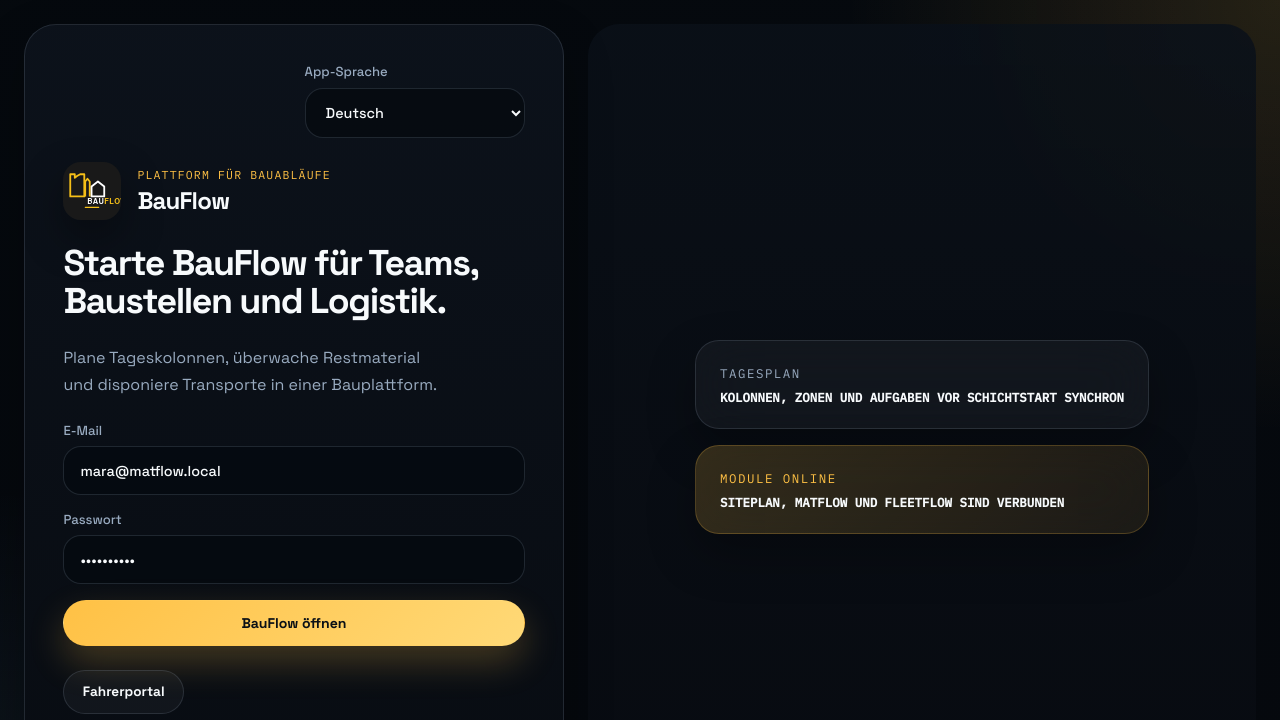
Test: App login smoke tests › shows a localized login error for invalid credentials
Step 1. Click the button "BauFlow öffnen" → {"x": 294, "y": 623}, box [63,600,525,646]
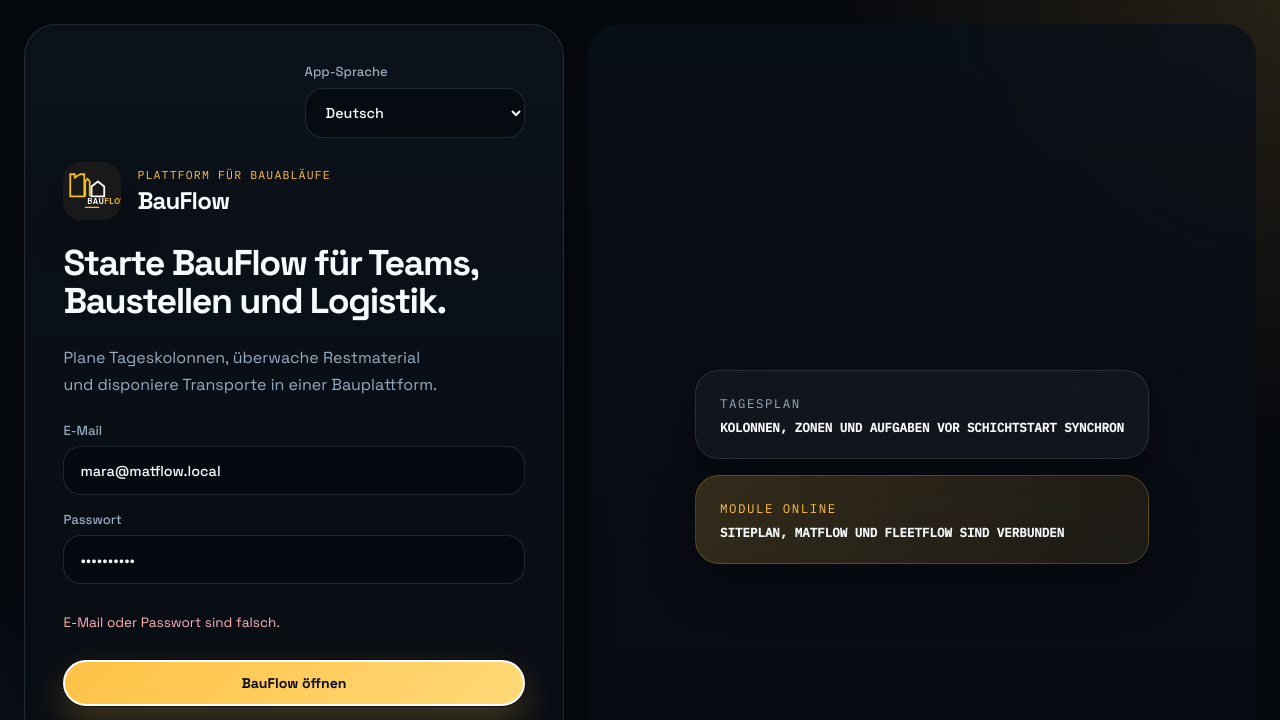
Now the text "E-Mail oder Passwort sind falsch." is shown, box [63,614,280,630]
